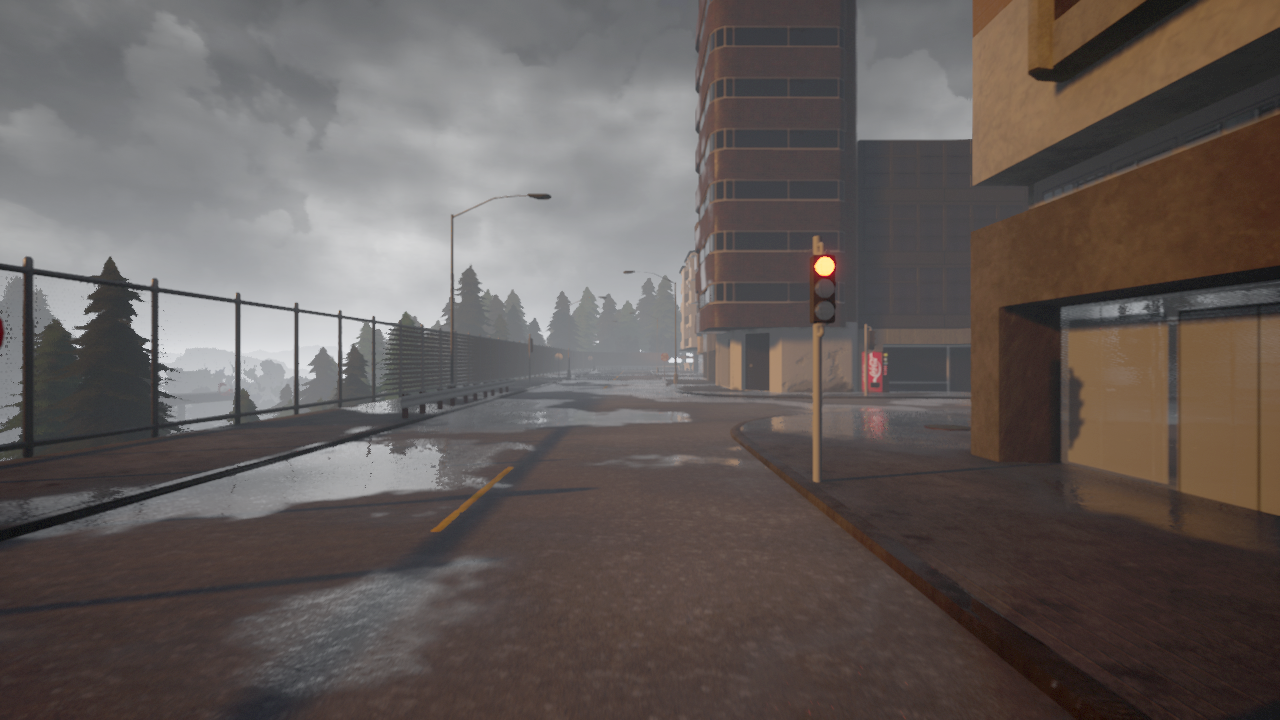red: (808, 250, 837, 324)
